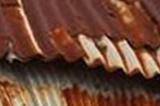rust: (6, 4, 160, 64), (57, 85, 156, 106)
